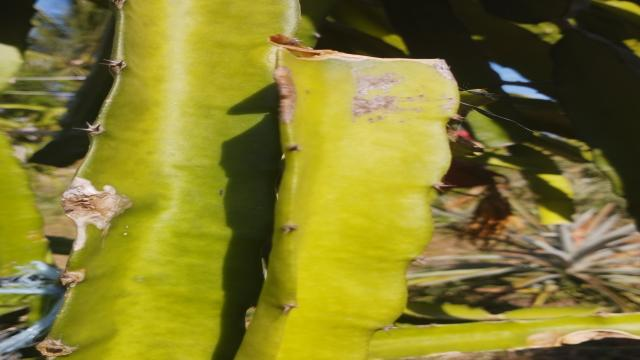stemcanker: (59, 163, 137, 255), (342, 74, 407, 133)
